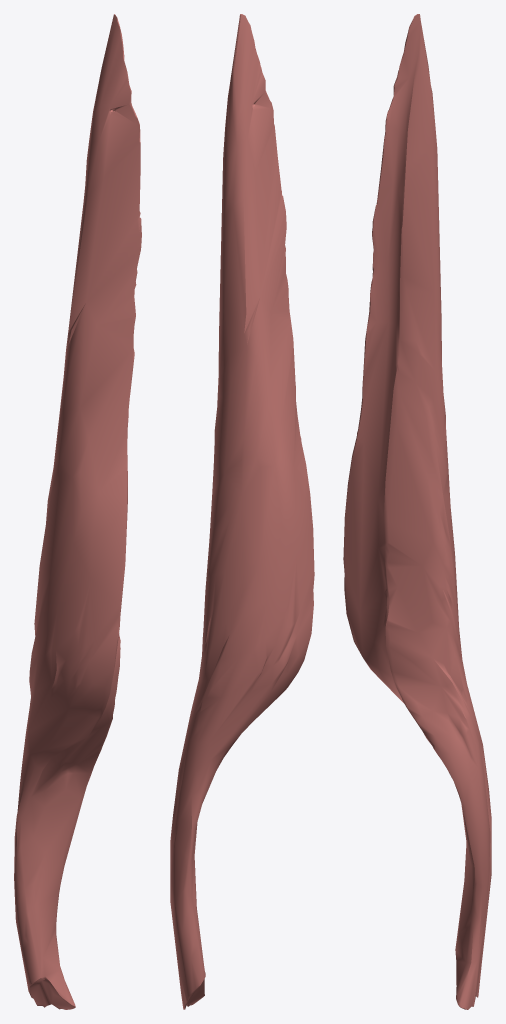
Rendered from fma45892_fj1444m.glb.
3 views of the same model, side by side, from view 1: azimuth 90°, elevation 25°; view 2: azimuth 150°, elevation 25°; view 3: azimuth 330°, elevation 25° (orthographic). The views are drawn at different scales.
Visible parts, largest first — view 1: FMA45892_FJ1444M; view 2: FMA45892_FJ1444M; view 3: FMA45892_FJ1444M.
Boxes of the visible parts, x1,y1,x2,y2 form: FMA45892_FJ1444M: [14, 14, 141, 1009]; FMA45892_FJ1444M: [170, 14, 314, 1009]; FMA45892_FJ1444M: [343, 14, 491, 1009].
Bounding box in the file's own units: 0.0367 × 0.3184 × 0.0366.
